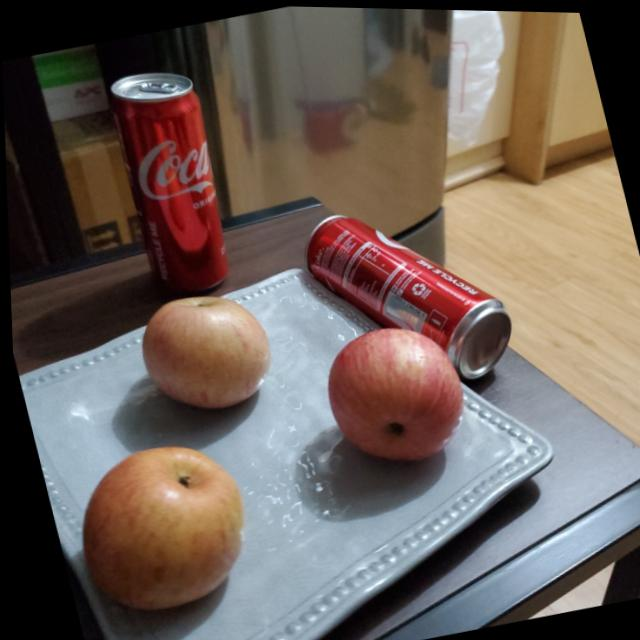apple: (58, 428, 264, 622), (308, 313, 475, 477), (130, 285, 280, 421)
coke: (297, 184, 523, 403), (100, 62, 241, 298)
